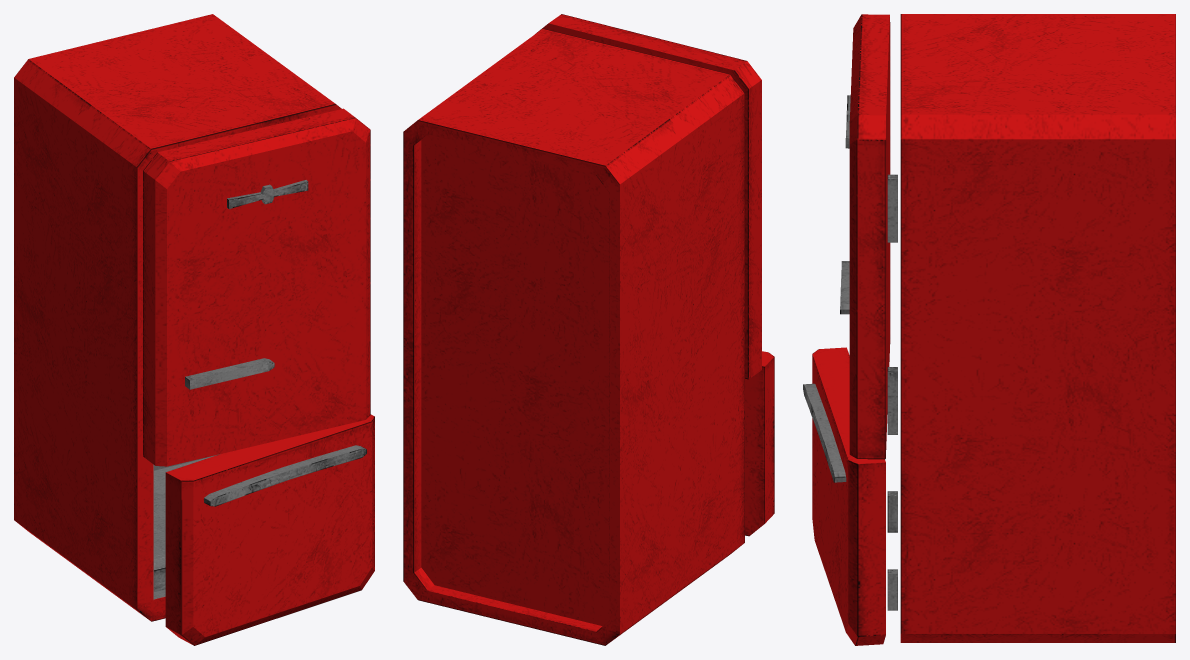
The model's file is fridge.fbx.
3 views of the same model, side by side, from view 1: azimuth 30°, elevation 25°; view 2: azimuth 150°, elevation 25°; view 3: azimuth 270°, elevation 25° (orthographic). The views are drawn at different scales.
Parts seen in each view (by area): view 1: Cube.001; view 2: Cube.001; view 3: Cube.001.
Part boxes in pixels (left/top/right/bottom): Cube.001: left=14, top=14, right=374, bottom=645; Cube.001: left=403, top=14, right=774, bottom=645; Cube.001: left=803, top=14, right=1175, bottom=645.
Bounding box in the file's own units: 342 × 707 × 452.
1 material, 1 textured.
